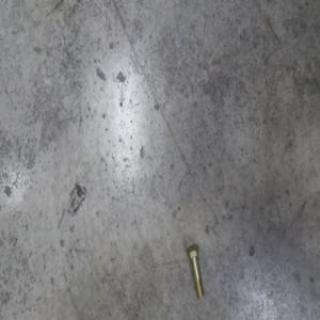Bolttrack_idkeyframe: (184, 241, 203, 298)
